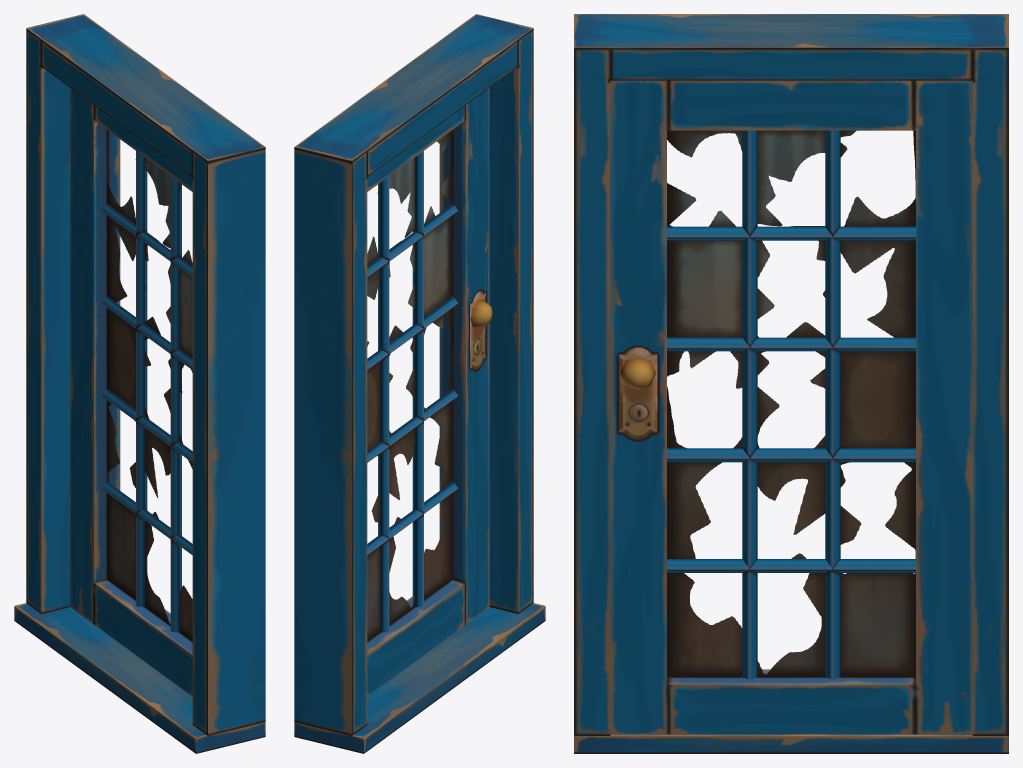
File: storeFront03_door.FBX
3 views of the same model, side by side, from view 1: azimuth 30°, elevation 25°; view 2: azimuth 150°, elevation 25°; view 3: azimuth 270°, elevation 25° (orthographic). The views are drawn at different scales.
Parts seen in each view (by area): view 1: storeFront03_door_frame, storeFront03_door, storeFront03_door_glass; view 2: storeFront03_door_frame, storeFront03_door, storeFront03_door_glass; view 3: storeFront03_door, storeFront03_door_frame, storeFront03_door_glass.
Boxes of the visible parts, <box> form: storeFront03_door_frame: <box>14,14,265,753</box>; storeFront03_door: <box>70,88,192,696</box>; storeFront03_door_glass: <box>107,130,192,641</box>; storeFront03_door_frame: <box>294,14,545,753</box>; storeFront03_door: <box>367,88,492,696</box>; storeFront03_door_glass: <box>367,130,452,641</box>; storeFront03_door: <box>610,80,972,734</box>; storeFront03_door_frame: <box>574,14,1008,753</box>; storeFront03_door_glass: <box>667,130,915,676</box>.
Bounding box in the file's own units: 30.5 × 215 × 120.
